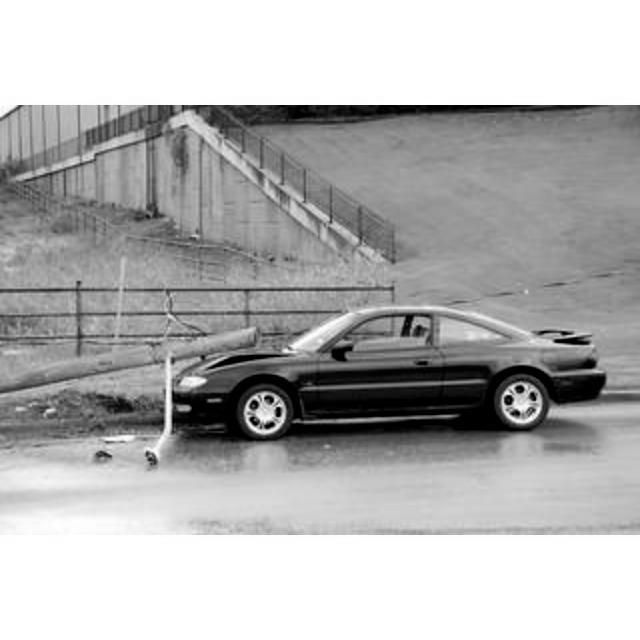bonnet-dent: (186, 341, 294, 369)
